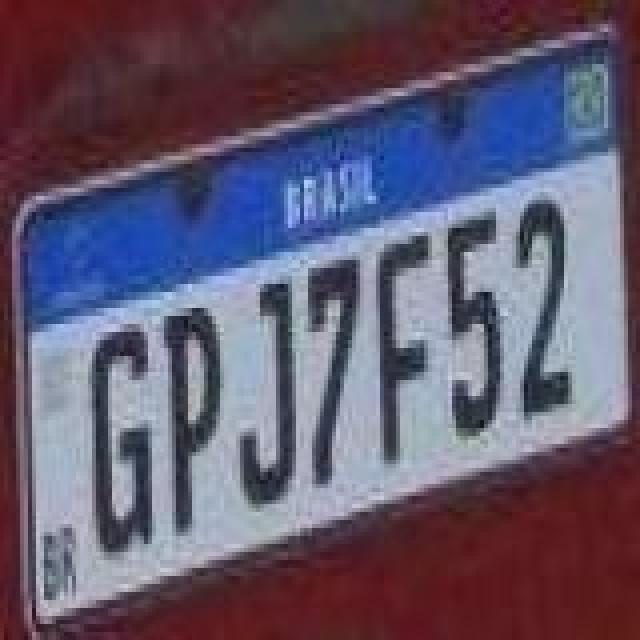2: (512, 194, 576, 422)
5: (440, 208, 504, 440)
7: (306, 254, 366, 490)
F: (378, 226, 438, 470)
G: (92, 322, 156, 558)
J: (230, 278, 298, 506)
P: (160, 308, 224, 540)
